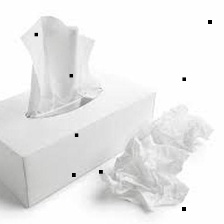book: (0, 63, 159, 211)
tissue: (96, 98, 217, 216), (15, 12, 106, 121)
